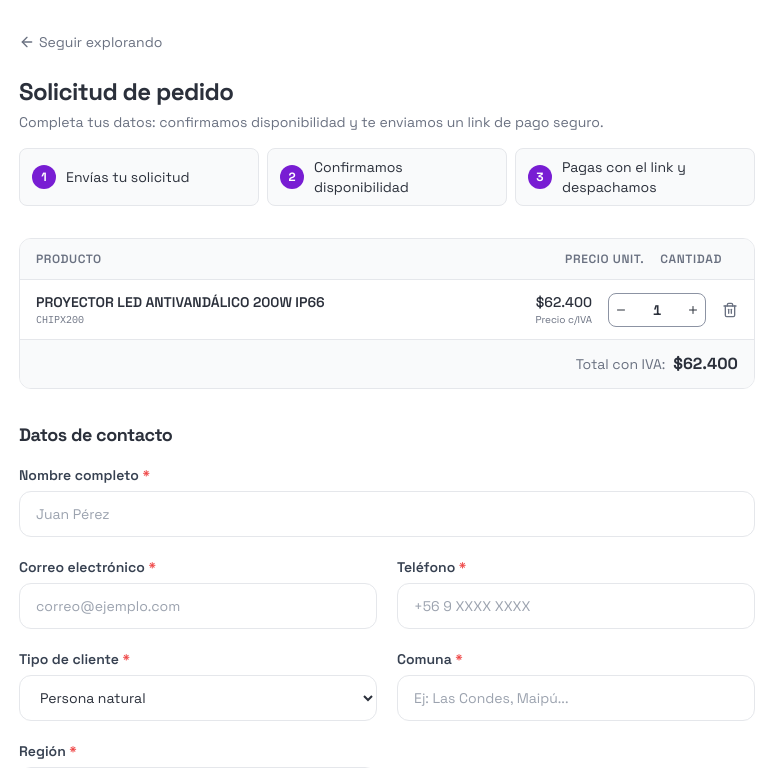
it: /solicitar-pedido: casillas de privacidad, términos y novedades › con el resto válido y sin marcar: no envía, el mensaje junto a la casilla y el foco en ella
Type "PRUEBA ETAPA 2 (10) - borrar" into the field labelled "Nombre completo *" at (387, 514), box [19,491,755,537]
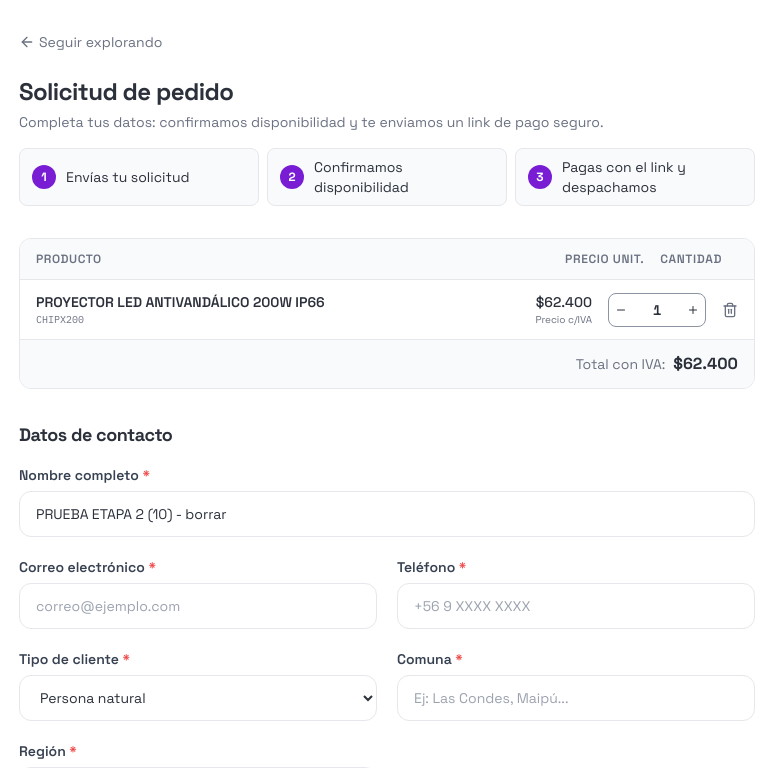
Type "prueba-etapa2-10@example.com" into the field labelled "Correo electrónico *" at (198, 606), box [19,583,377,629]
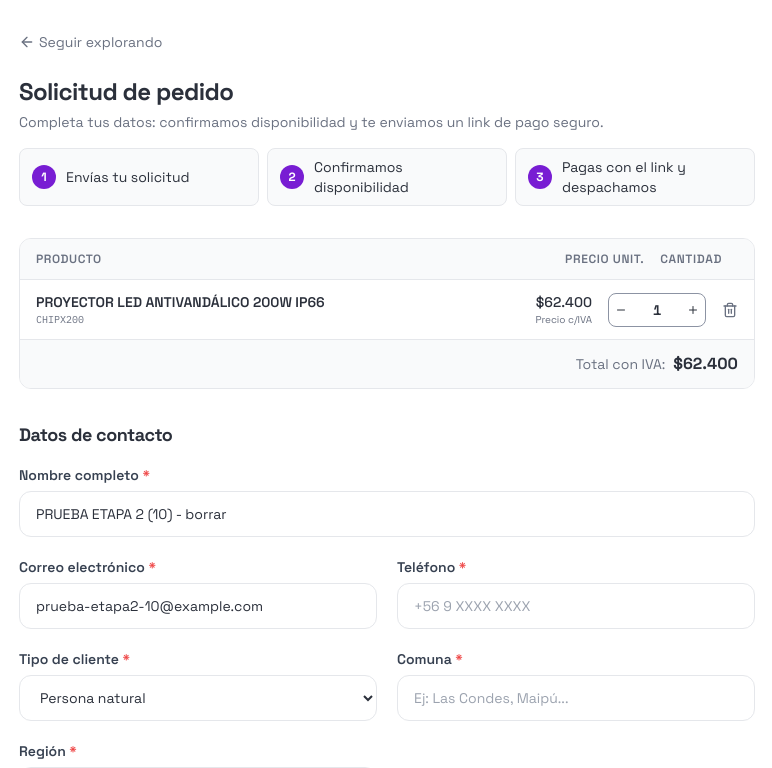
Type "+56 9 0000 0910" into the field labelled "Teléfono *" at (576, 606), box [397,583,755,629]
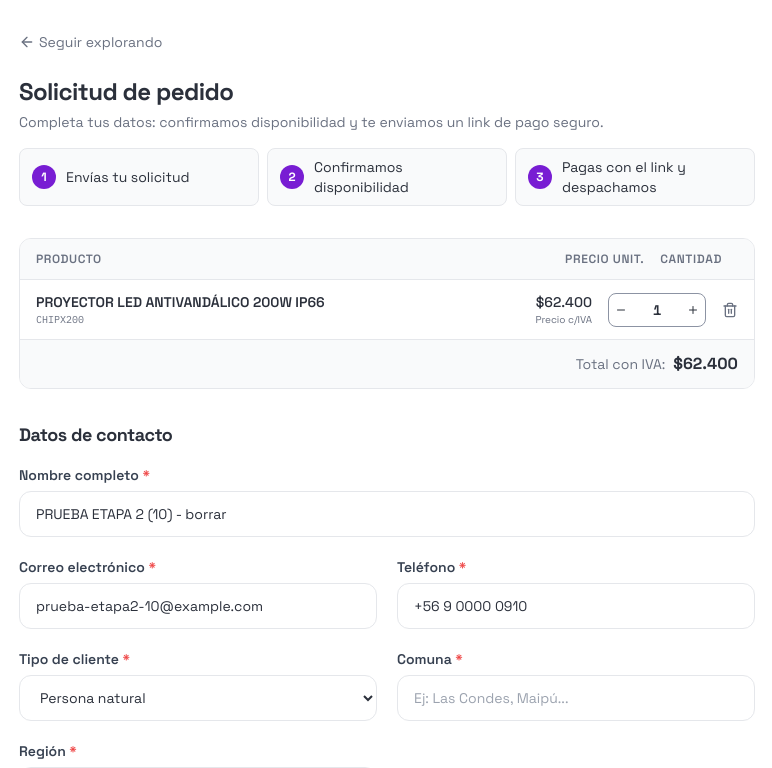
Type "Santiago" into the field labelled "Comuna *" at (576, 698), box [397,675,755,721]
(page scrolled)
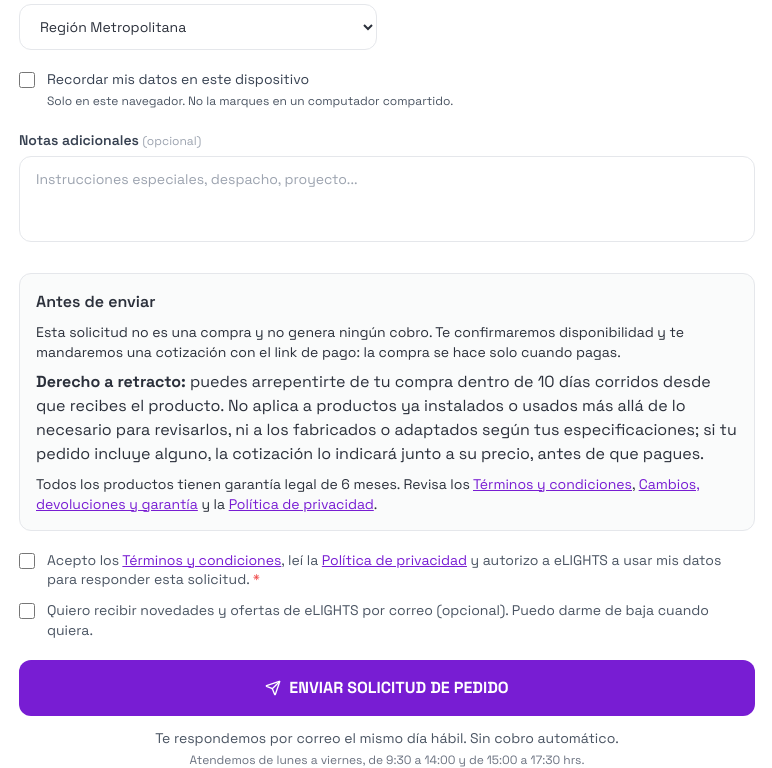
Click the button "ENVIAR SOLICITUD DE PEDIDO" at (387, 688), box [19,660,755,716]
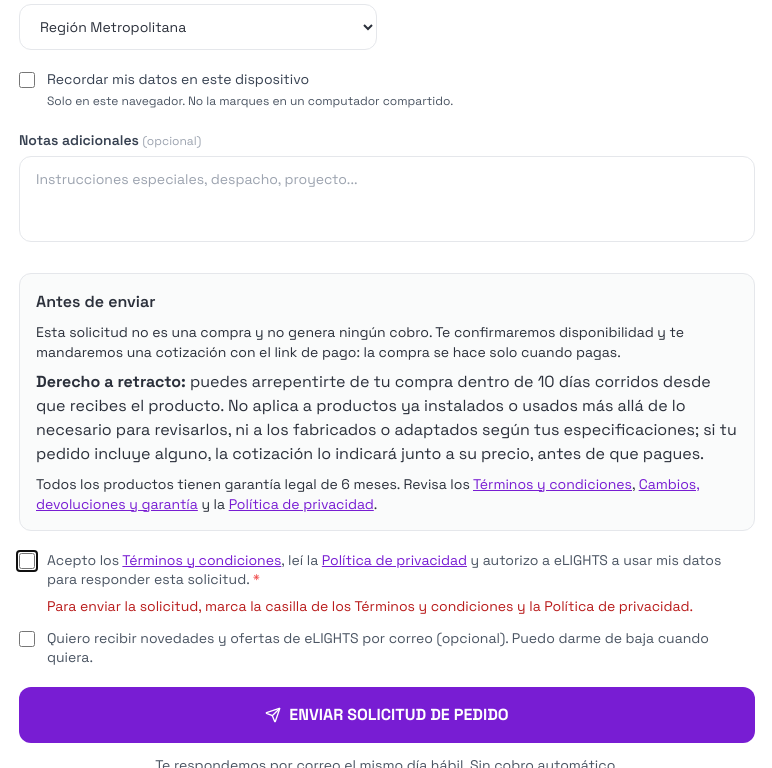
Expected: the button "ENVIAR SOLICITUD DE PEDIDO" is enabled, [19,687,755,743]
Now the message shows "Para enviar la solicitud, marca la casilla de los Términos y condiciones y la Política de privacidad.", box [47,597,693,615]
